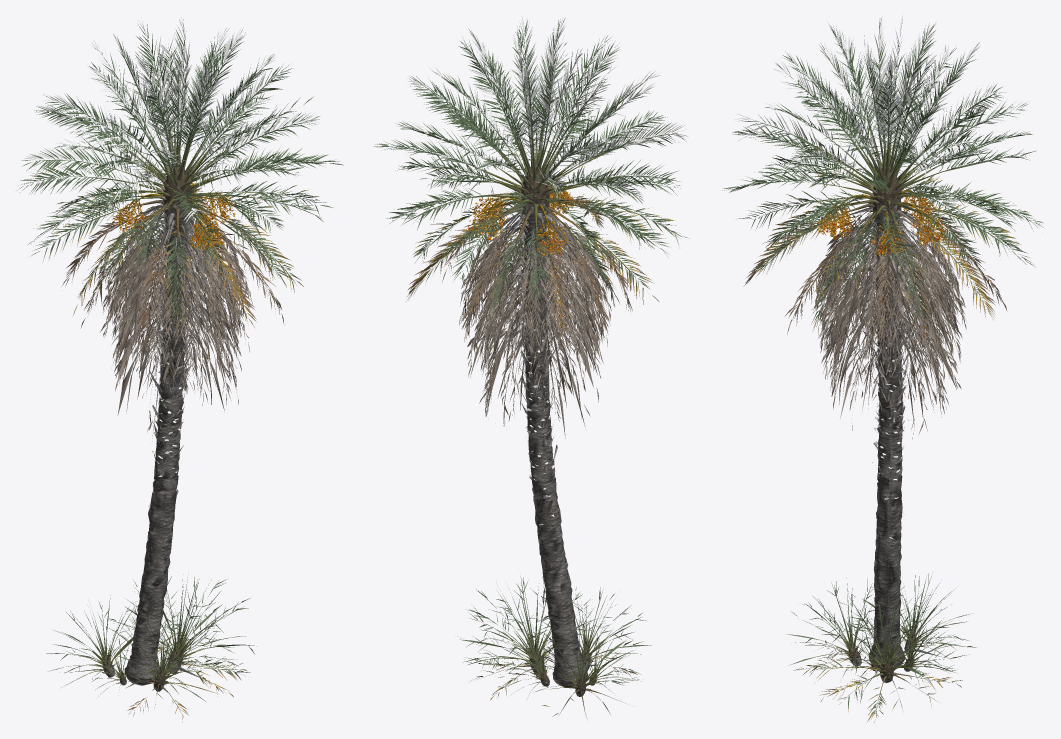
Rendered from date_palm.glb.
3 views of the same model, side by side, from view 1: azimuth 30°, elevation 25°; view 2: azimuth 150°, elevation 25°; view 3: azimuth 270°, elevation 25° (orthographic).
Size of the model in its own units: 0.4482 by 0.9966 by 0.4457.
15 materials, 14 textured.
